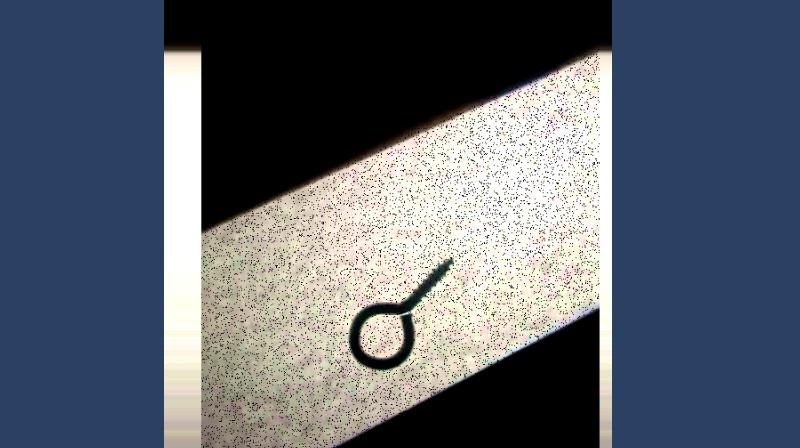O001: (347, 254, 455, 373)
